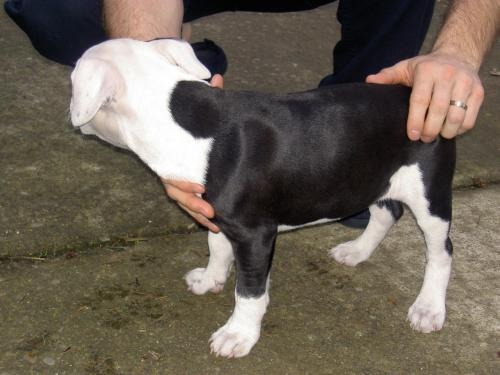dog: (67, 2, 241, 241)
